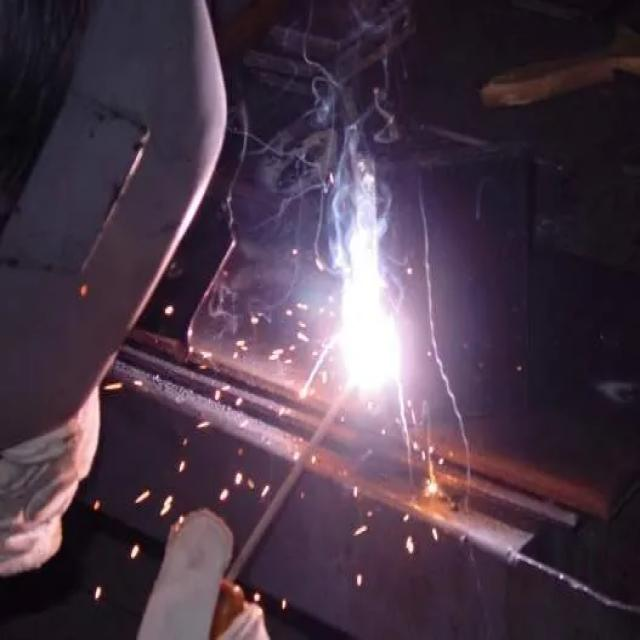welding: (342, 292, 402, 387)
